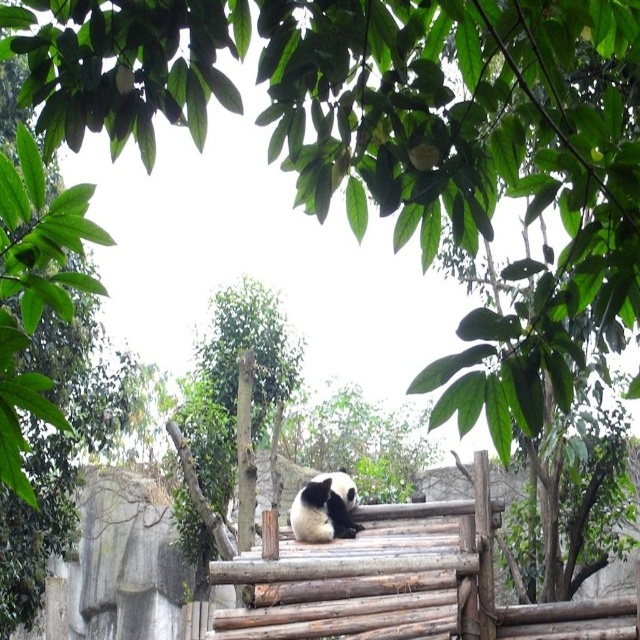Panda: (285, 467, 362, 541)
